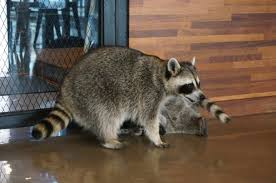raccoon: (43, 42, 229, 153)
